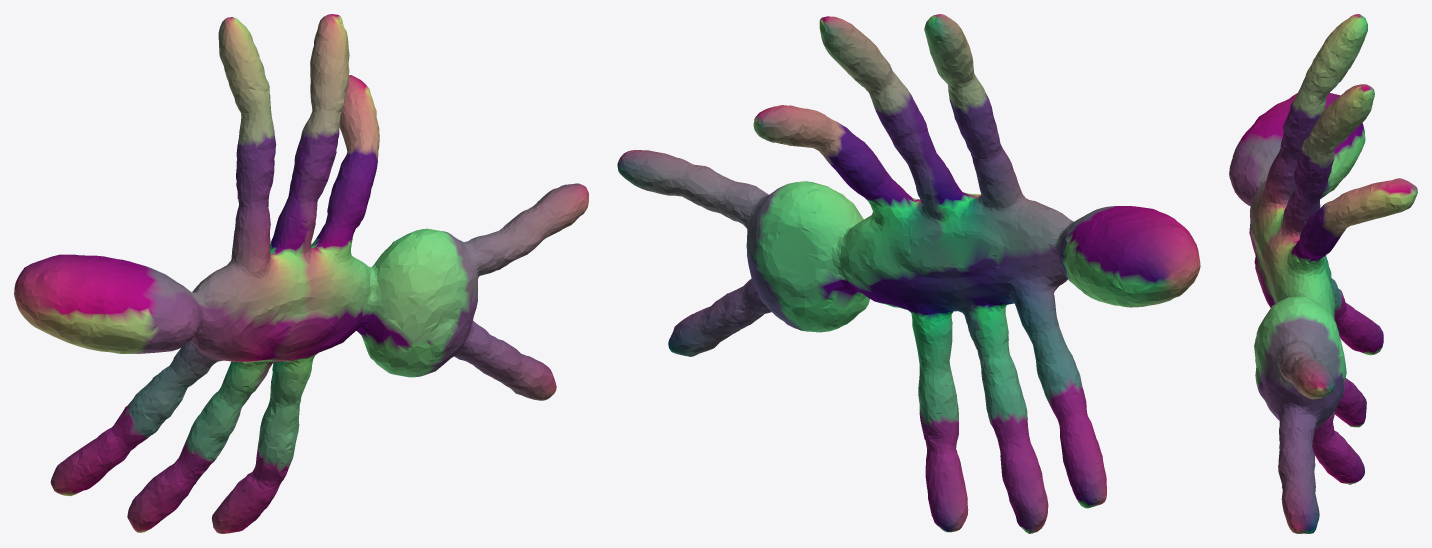
The model's file is ant-3.off.obj.
3 renders of one model, left to right at view 1: azimuth 30°, elevation 25°; view 2: azimuth 150°, elevation 25°; view 3: azimuth 270°, elevation 25°, orthographic. The views are drawn at different scales.
Bounding box in the file's own units: 1.66 × 1.43 × 0.5186.
